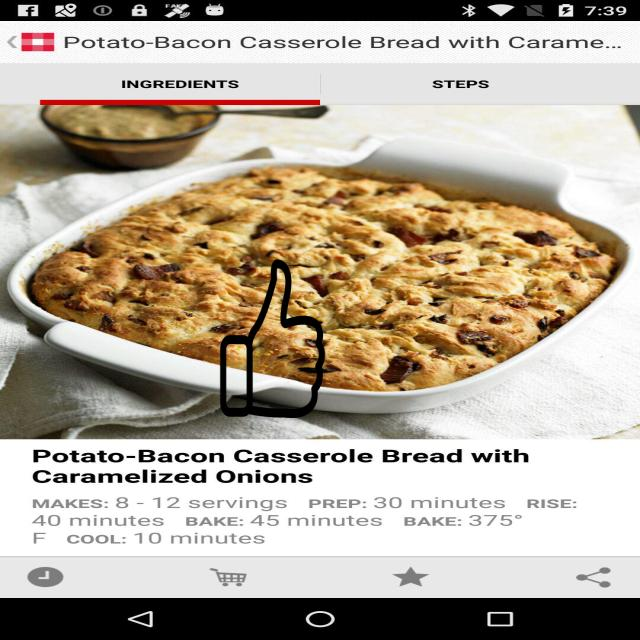privacy zuckering: (218, 259, 326, 418)
